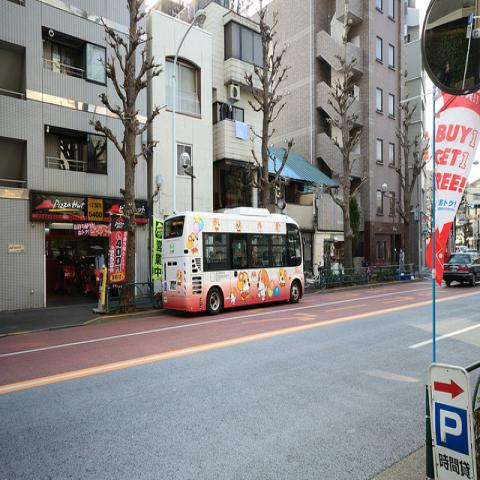bus: (160, 206, 306, 315)
car: (442, 252, 480, 287), (455, 245, 470, 253), (464, 249, 478, 254)
